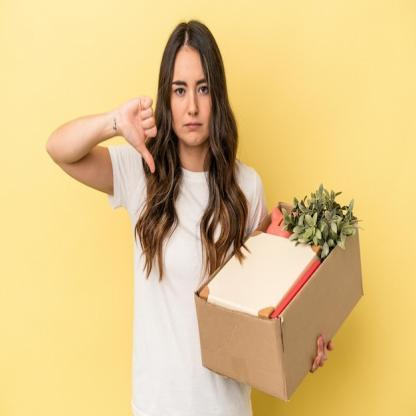thumb_down: (118, 92, 158, 176)
